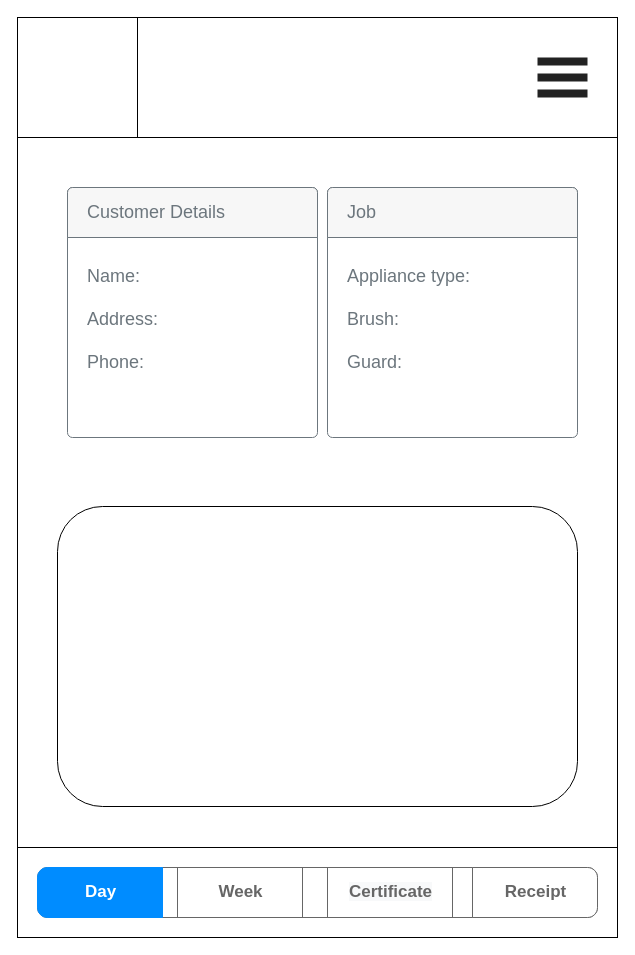
This 635x955 diagram has some shape labels left out. The shapes that lost their labels are listed below. From the top down, each one's centre as x and y in pixels, then its label:
At [77,77]: "Logo".
At [317,656]: "History: Notes:".
